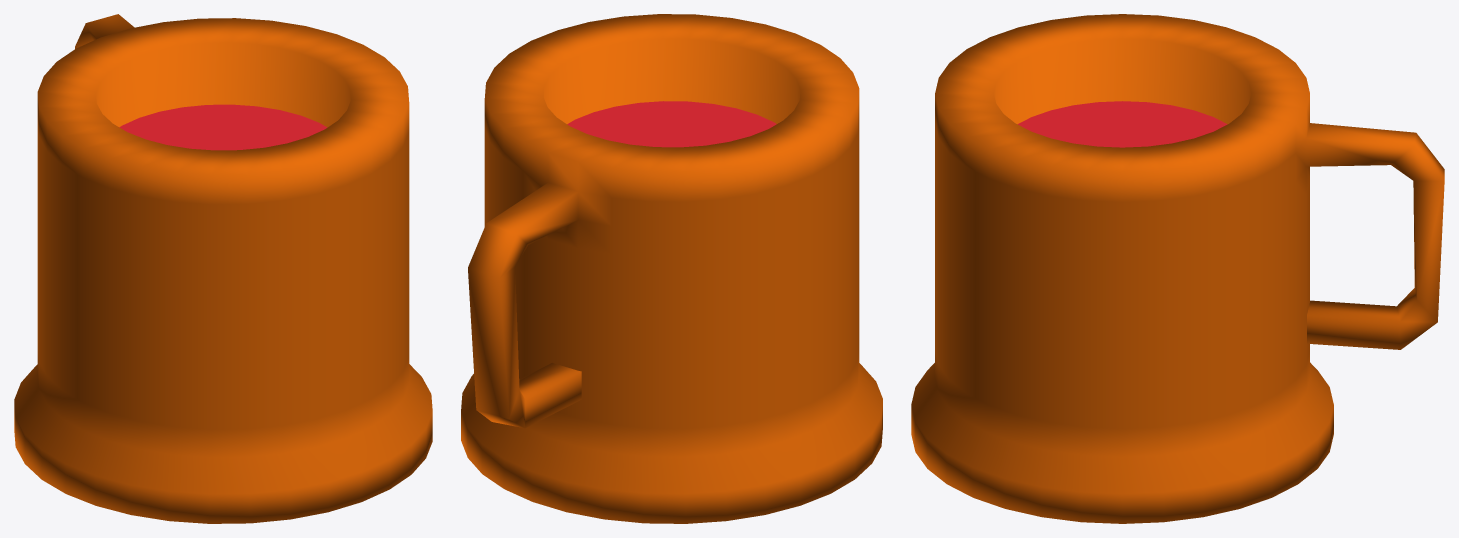
File: pinta.fbx
3 renders of one model, left to right at view 1: azimuth 30°, elevation 25°; view 2: azimuth 150°, elevation 25°; view 3: azimuth 270°, elevation 25°, orthographic.
Parts seen in each view (by area): view 1: Cylinder, Cylinder.001; view 2: Cylinder, Cylinder.001; view 3: Cylinder, Cylinder.001.
Part boxes in pixels (left/top/right/bottom): Cylinder: left=14, top=14, right=432, bottom=523; Cylinder.001: left=119, top=104, right=327, bottom=150; Cylinder: left=461, top=14, right=882, bottom=523; Cylinder.001: left=567, top=101, right=776, bottom=147; Cylinder: left=911, top=14, right=1444, bottom=523; Cylinder.001: left=1017, top=101, right=1227, bottom=147.
Size of the model in its own units: 2.84 by 2.25 by 2.01.
